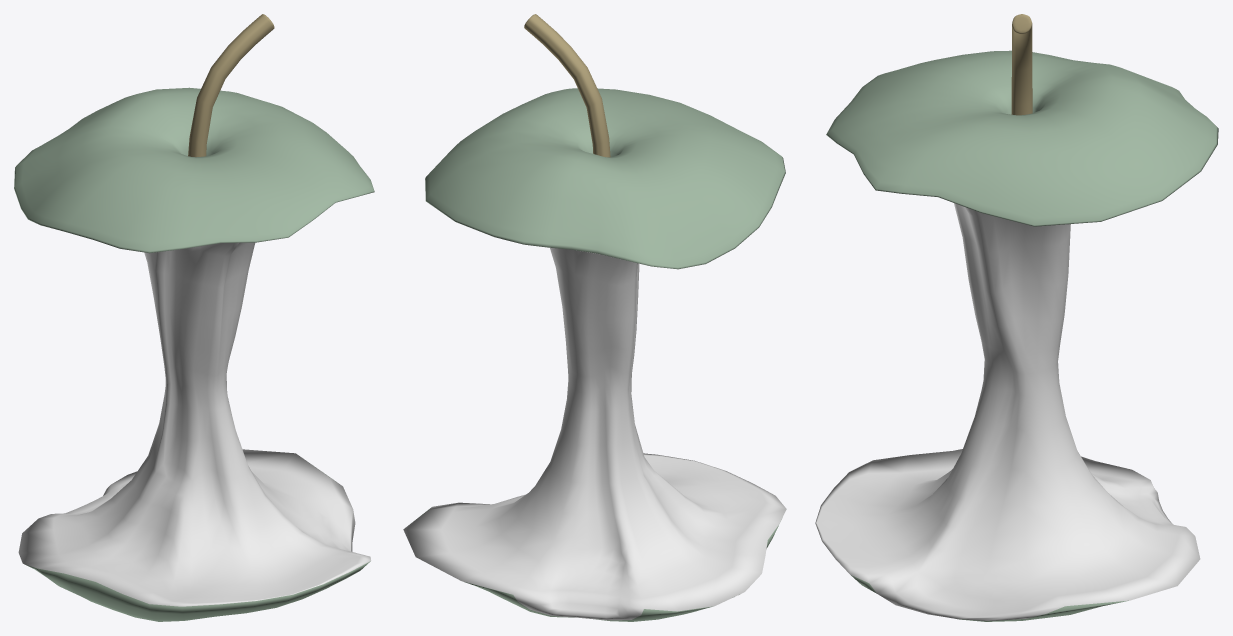
File: applecore1.fbx
3 views of the same model, side by side, from view 1: azimuth 30°, elevation 25°; view 2: azimuth 150°, elevation 25°; view 3: azimuth 270°, elevation 25° (orthographic). The views are drawn at different scales.
Visible parts, largest first — view 1: GreenApple; view 2: GreenApple; view 3: GreenApple.
Part boxes in pixels (left/top/right/bottom): GreenApple: left=14, top=14, right=374, bottom=621; GreenApple: left=403, top=14, right=786, bottom=621; GreenApple: left=815, top=14, right=1218, bottom=621.
Bounding box in the file's own units: 207 × 340 × 208.
